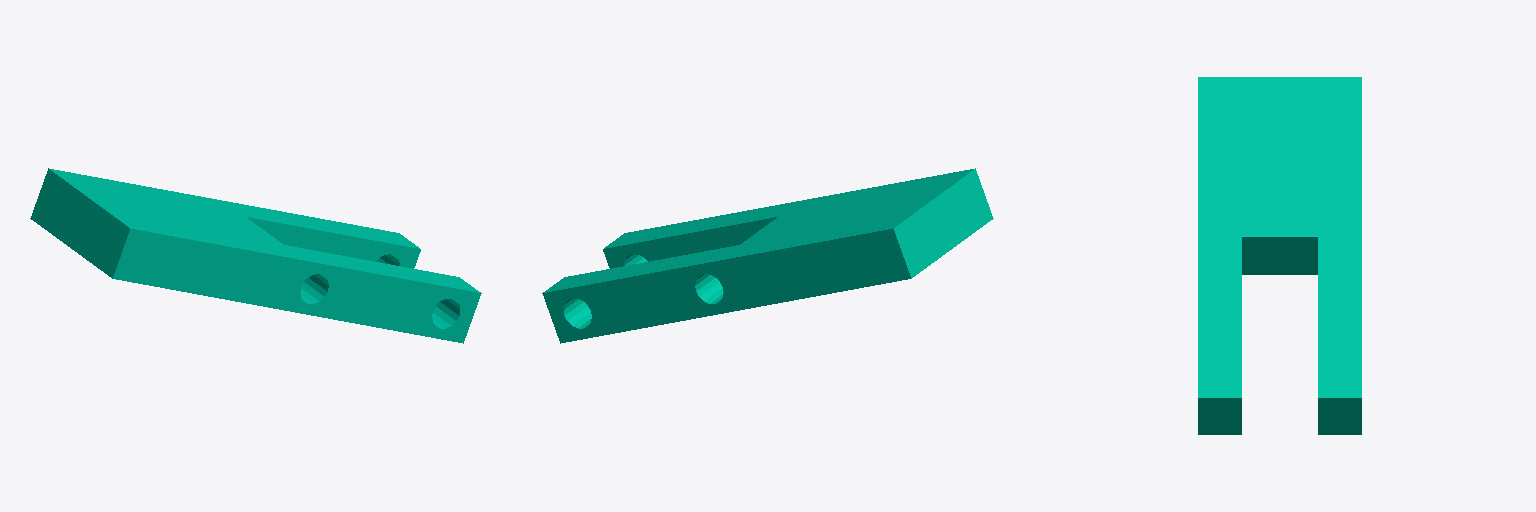
File: press.obj
The picture shows the model from 3 angles: view 1: azimuth 30°, elevation 25°; view 2: azimuth 150°, elevation 25°; view 3: azimuth 270°, elevation 25°; orthographic projection.
Parts seen in each view (by area): view 1: press; view 2: press; view 3: press.
Boxes of the visible parts, x1,y1,x2,y2 form: press: [30, 168, 481, 343]; press: [542, 168, 993, 343]; press: [1198, 77, 1361, 434].
Bounding box in the file's own units: 0.7782 × 0.3956 × 0.3.